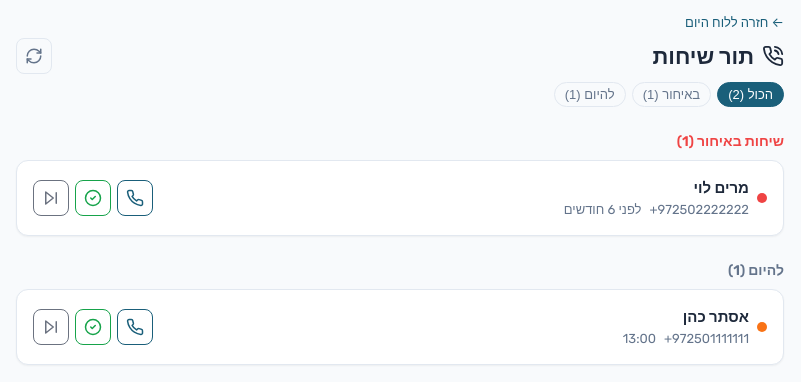
Test: CallsTodayPage › marks a row completed via PATCH and removes it from the list
This screenshot has width=801, height=382.
expect the text "אסתר כהן" is shown: met, box [683,308,749,326]
Click the 1st button named "סמן כהושלמה".
click(93, 198)  # box [75,180,111,216]
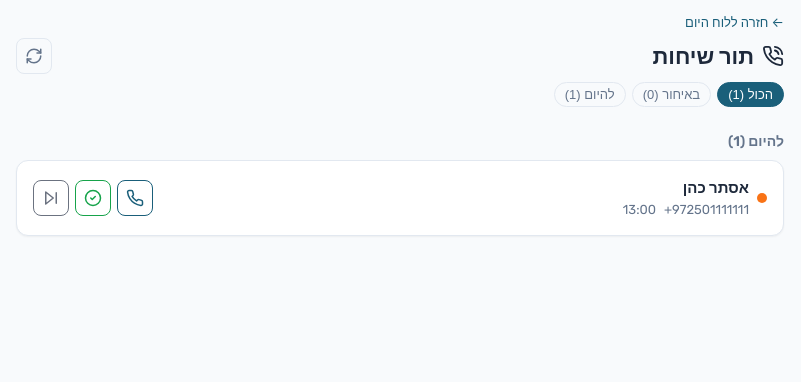
expect the text "מרים לוי" is gone: met
